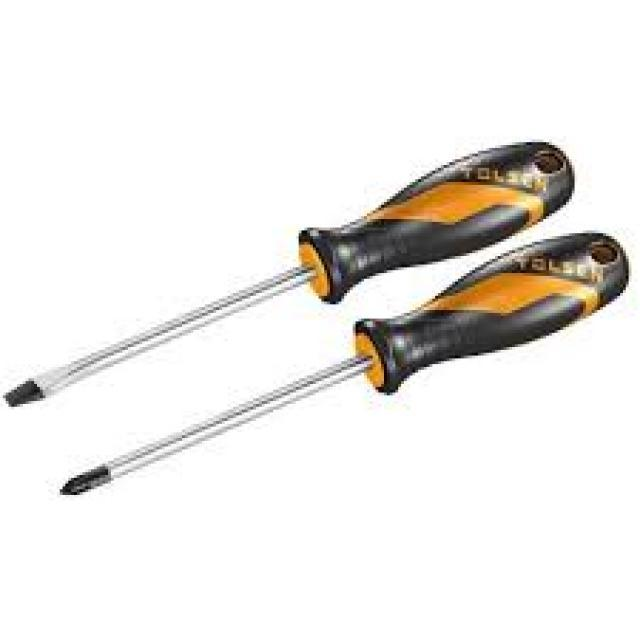screwdriver: (54, 229, 632, 502), (1, 142, 576, 410)
